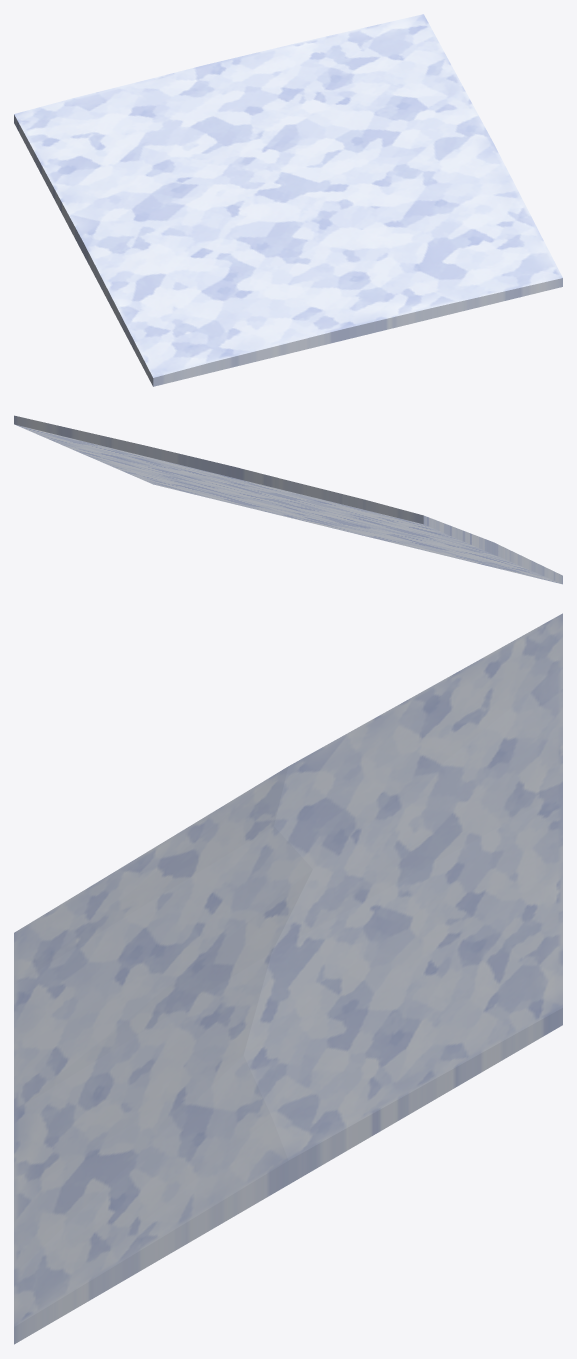
File: snow_roof_slope.glb
3 renders of one model, top to bottom at view 1: azimuth 30°, elevation 25°; view 2: azimuth 150°, elevation 25°; view 3: azimuth 270°, elevation 25°, orthographic. The views are drawn at different scales.
Visible parts, largest first — view 1: winter_snow_roof_slope; view 2: winter_snow_roof_slope; view 3: winter_snow_roof_slope.
Part boxes in pixels (x1,y1,x2,y2): winter_snow_roof_slope: (14,14,562,386); winter_snow_roof_slope: (14,415,562,584); winter_snow_roof_slope: (14,613,562,1344).
Size of the model in its own units: 3.4 by 1.37 by 2.
1 material, 1 textured.
